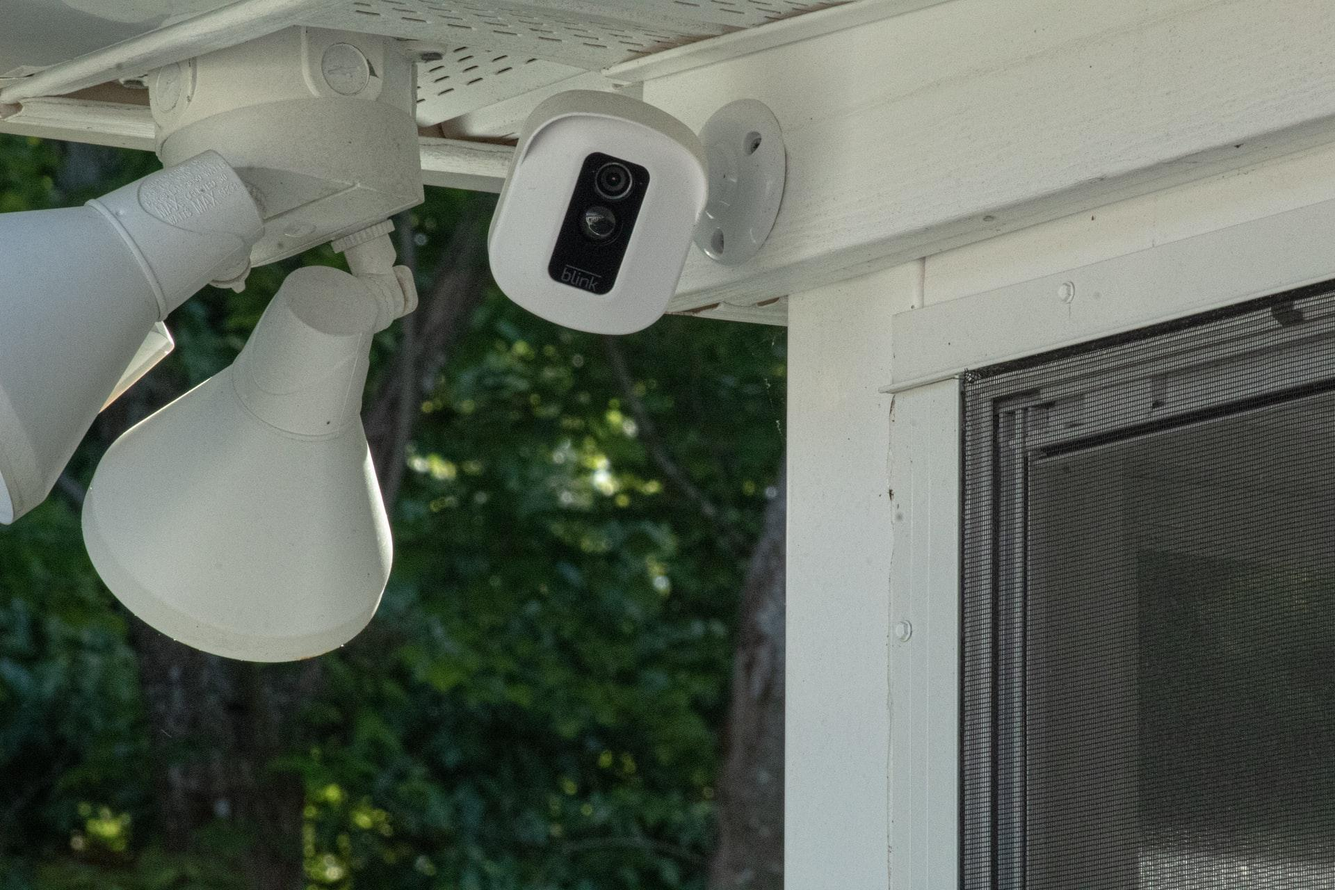CCTV: (453, 47, 837, 371)
